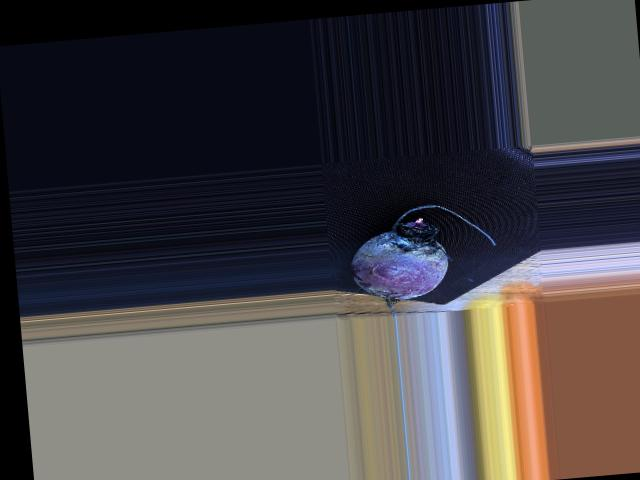beet: (345, 199, 501, 319)
